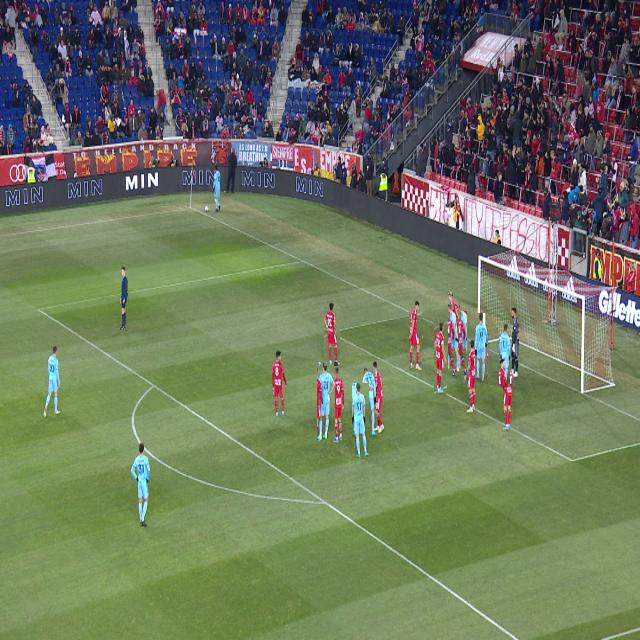goalkeeper: (511, 307, 519, 377)
player: (130, 443, 150, 527), (318, 363, 335, 441), (43, 346, 61, 418), (352, 383, 369, 458), (329, 368, 344, 443), (324, 303, 340, 366), (272, 351, 287, 417), (464, 340, 477, 413), (452, 312, 467, 375), (362, 368, 376, 435), (434, 323, 447, 394), (475, 313, 488, 382), (373, 361, 385, 433), (410, 301, 422, 370), (503, 359, 513, 431), (449, 305, 459, 373), (500, 324, 510, 386), (447, 292, 456, 339), (458, 354, 464, 370), (370, 387, 373, 391), (448, 349, 450, 352)
referee: (120, 267, 128, 330)
